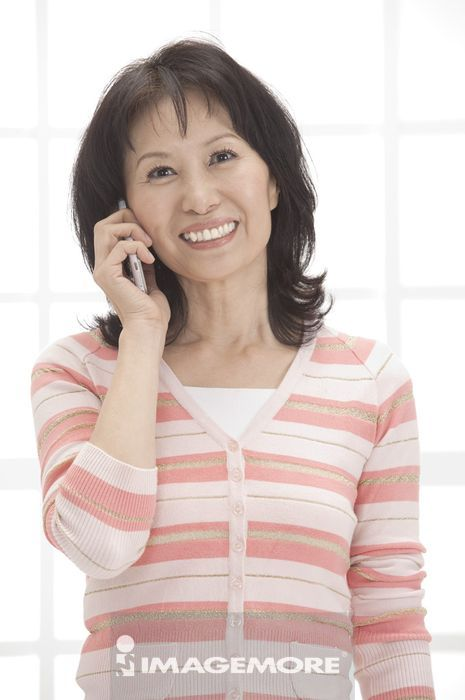phone: (112, 198, 148, 291)
talk: (92, 132, 258, 347)
